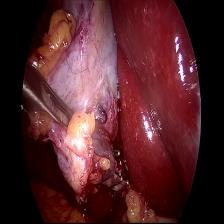Grasper: (20, 58, 76, 143)
